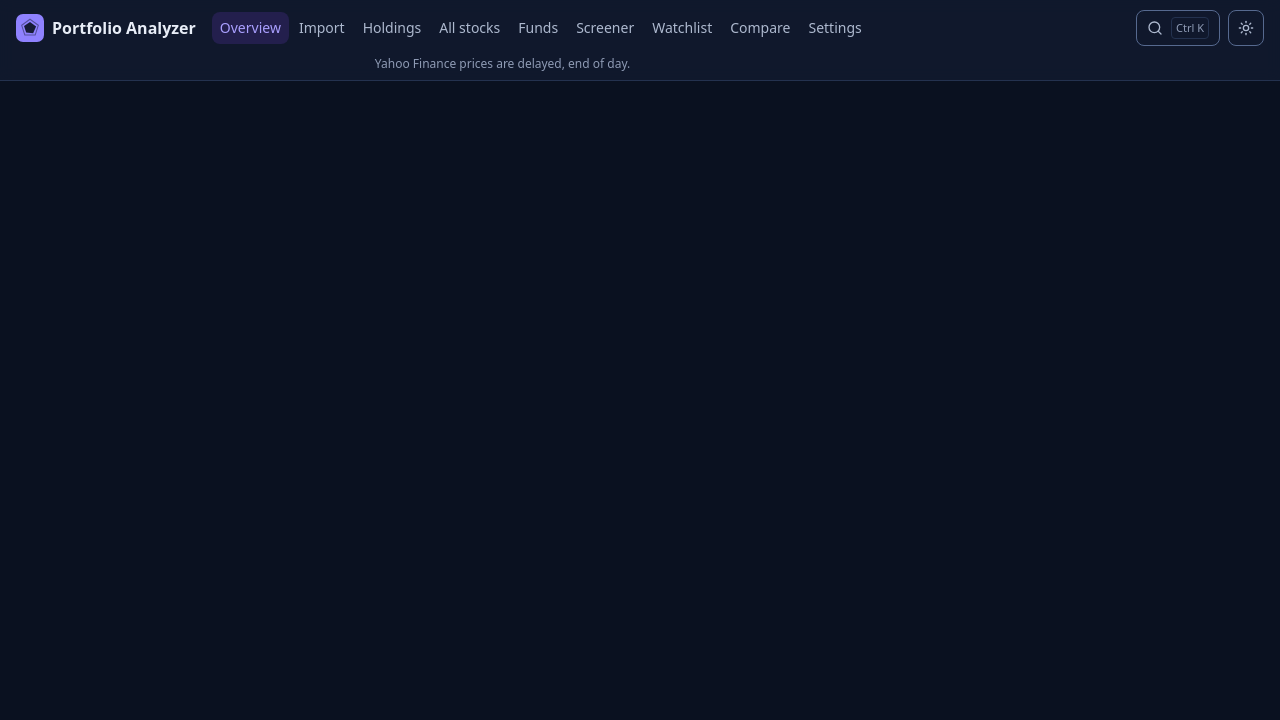
Layout › starts dark and has a labelled theme switch
The width and height of the screenshot is (1280, 720).
Click the button named "Light mode" at (1246,28), box [1228,10,1264,46]
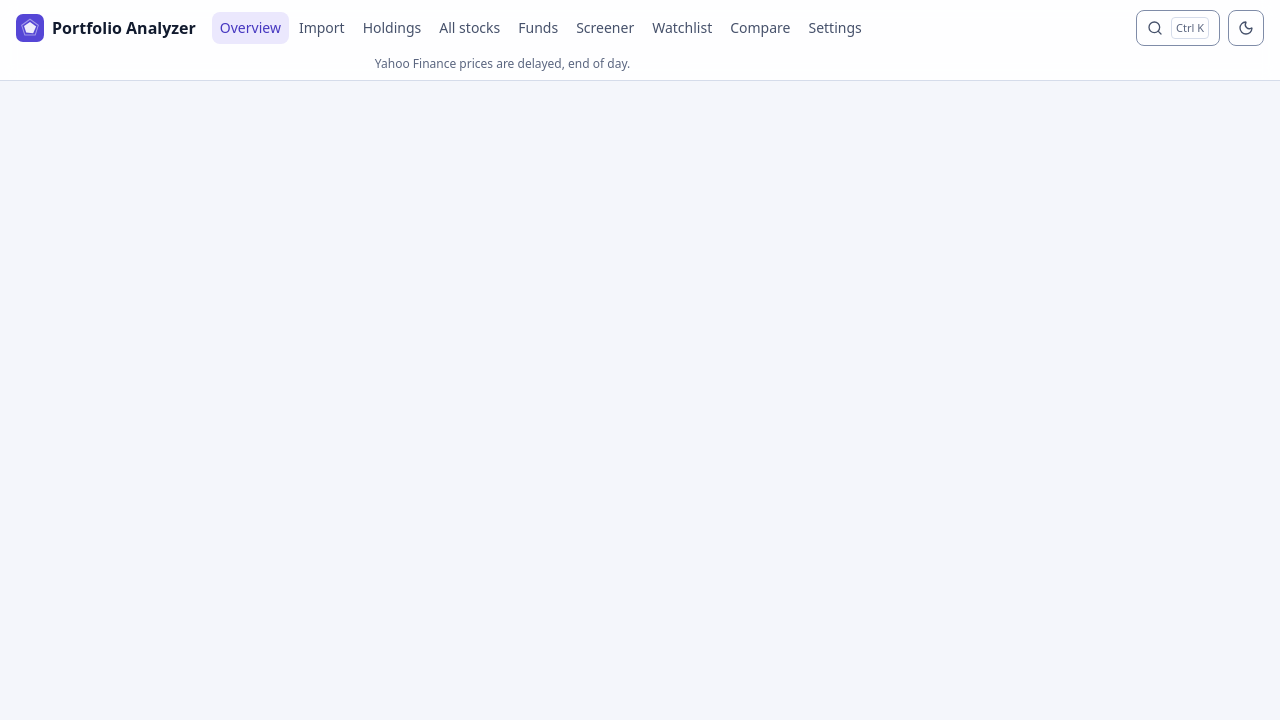
Result: the button named "Dark mode" is shown at [1228,10,1264,46]
